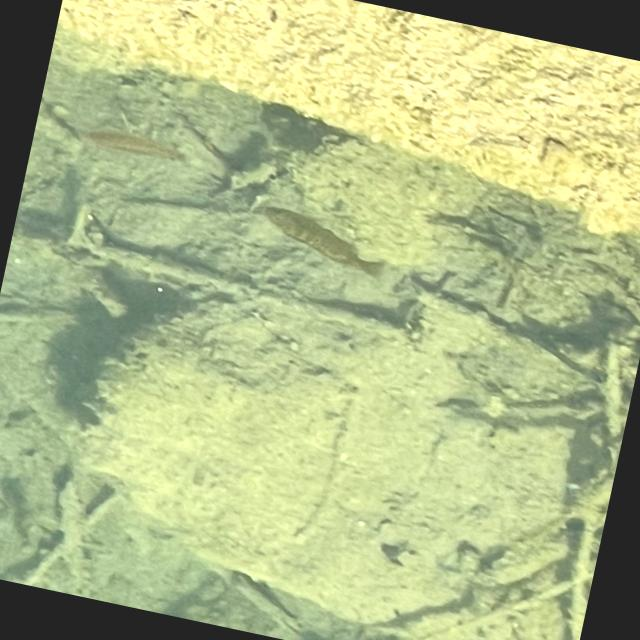Gunes Levregi: (242, 200, 399, 284), (68, 114, 200, 174)
